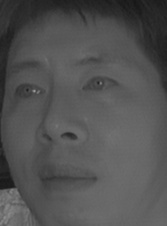eye: (80, 74, 122, 95), (11, 80, 46, 105)
mouth: (37, 158, 100, 199)
